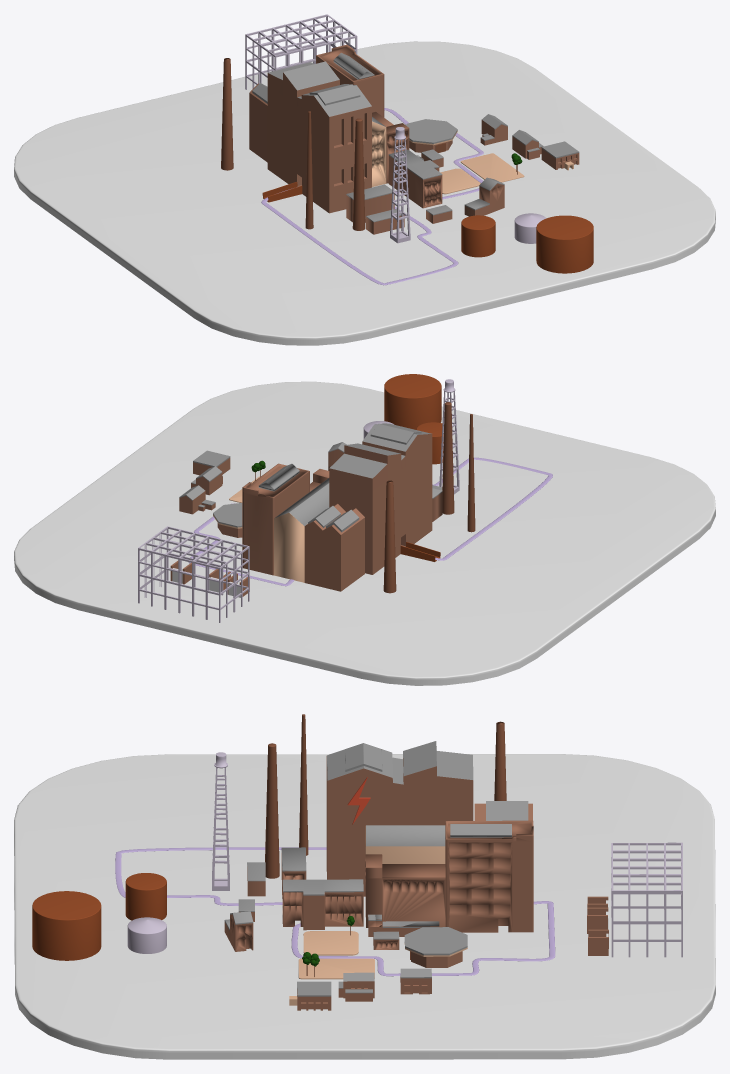
File: compressed_map-without-interactive-buildings.glb
3 renders of one model, top to bottom at view 1: azimuth 30°, elevation 25°; view 2: azimuth 150°, elevation 25°; view 3: azimuth 270°, elevation 25°, orthographic. The views are drawn at different scales.
Visible parts, largest first — view 1: ground, Cube.009, transformatoren, duiktank, info-building, BézierCurve, Cube.001, Cube.007, Cylinder.002, Circle, Circle.003, Circle.001 (+13 smaller); view 2: ground, Cube.009, transformatoren, Cube.001, machineroom, duiktank, Cube.005, BézierCurve, Cube.004, Circle.001, Circle.003, Circle (+8 smaller); view 3: ground, Cube.009, Cube.001, building-7-windows, duiktank, info-building, transformatoren, machineroom, BézierCurve, Circle, Cylinder.002, Circle.001 (+15 smaller).
Part boxes in pixels (x1,y1,x2,y2): ground: (14, 41, 715, 345); Cube.009: (267, 61, 371, 213); transformatoren: (245, 14, 357, 89); duiktank: (536, 215, 593, 273); info-building: (388, 149, 442, 208); BézierCurve: (261, 108, 483, 285); Cube.001: (316, 44, 384, 117); Cube.007: (390, 139, 410, 243); Cylinder.002: (461, 215, 495, 257); Circle: (406, 119, 457, 152); Circle.003: (221, 58, 233, 170); Circle.001: (352, 118, 365, 230); ground: (14, 381, 715, 685); Cube.009: (329, 423, 432, 574); transformatoren: (138, 526, 249, 622); Cube.001: (242, 463, 309, 575); machineroom: (274, 478, 329, 582); duiktank: (384, 374, 441, 429); Cube.005: (322, 508, 364, 591); BézierCurve: (188, 457, 552, 586); Cube.004: (304, 504, 345, 587); Circle.001: (442, 402, 454, 514); Circle.003: (383, 480, 396, 593); Circle: (213, 503, 242, 537); ground: (14, 754, 715, 1059); Cube.009: (326, 741, 473, 896); Cube.001: (445, 820, 533, 932); building-7-windows: (365, 854, 445, 927); duiktank: (32, 891, 101, 960); info-building: (282, 879, 363, 930); transformatoren: (611, 842, 682, 957); machineroom: (365, 825, 445, 863); BézierCurve: (115, 847, 555, 976); Circle: (404, 927, 467, 967); Cylinder.002: (125, 873, 166, 920); Circle.001: (265, 743, 279, 878).
Size of the model in its own units: 10.85 by 2.58 by 10.85.
